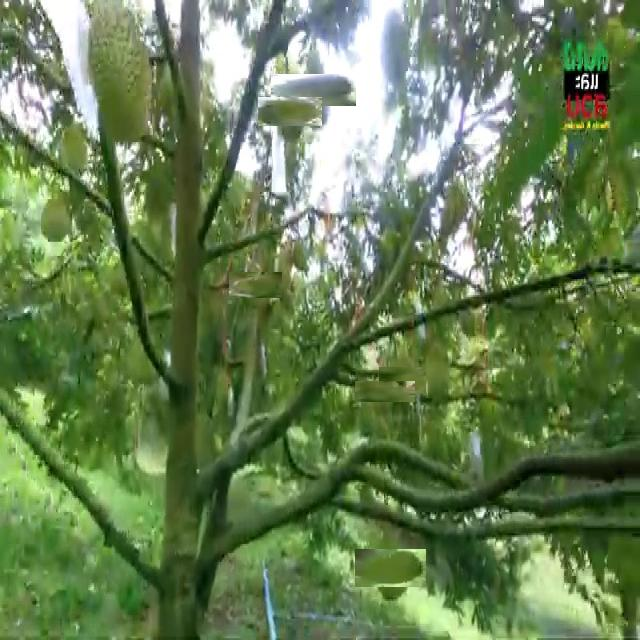durian: (84, 5, 156, 147), (285, 60, 343, 120), (364, 541, 418, 595), (266, 87, 313, 135), (364, 371, 406, 411), (40, 193, 72, 245), (59, 122, 88, 178), (236, 265, 276, 305), (383, 362, 421, 399)
